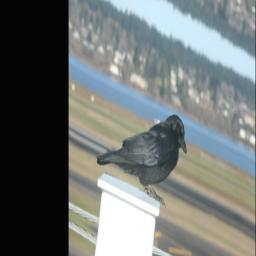Crow: (95, 73, 191, 215)
